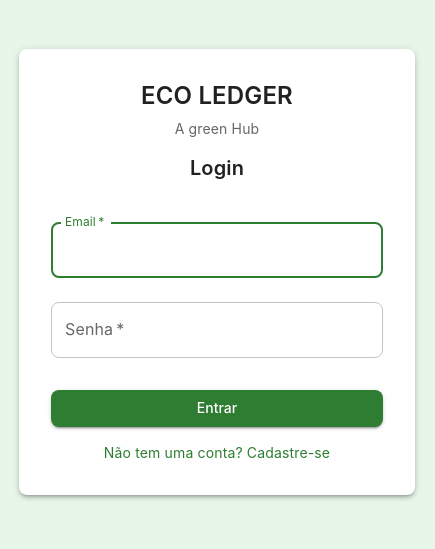
Test: LoginPage › should show error message on login failure
Step 1. Type "test@example.com" into the field labelled "Email *" → (217, 250), box top-left (51, 222), bottom-right (383, 278)
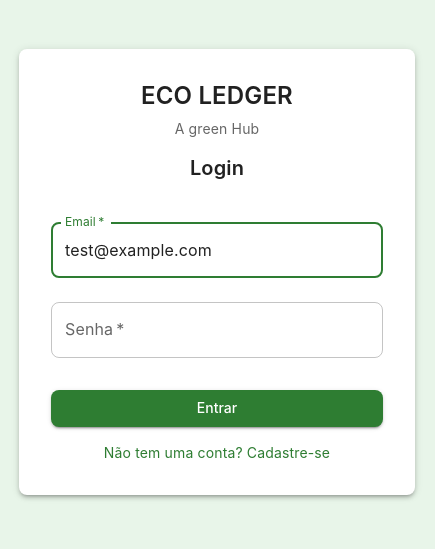
Step 2. Type "wrongpassword" into the password field labelled "Senha *" → (217, 330), box top-left (51, 302), bottom-right (383, 358)
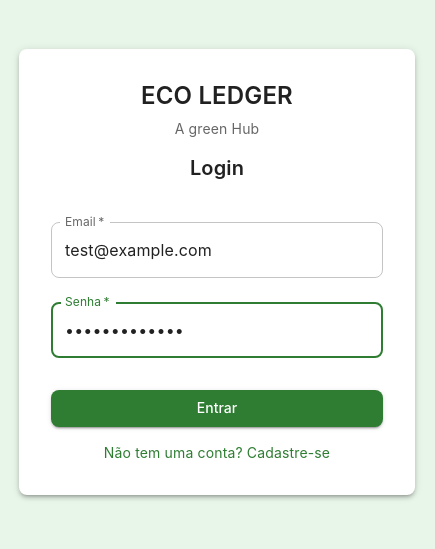
Step 3. Click the button "Entrar" → click(217, 408), box top-left (51, 390), bottom-right (383, 427)
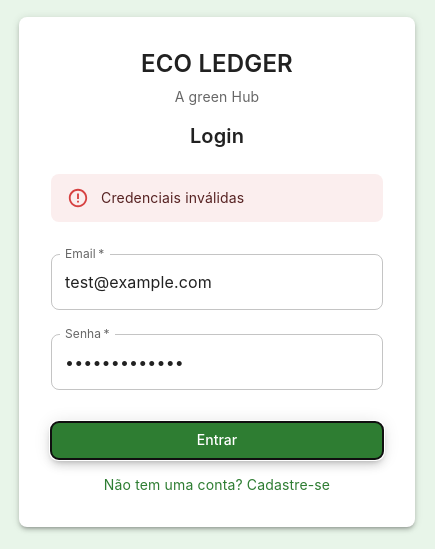
Expected: the text "Credenciais inválidas" is shown, top-left (101, 189), bottom-right (244, 206)
